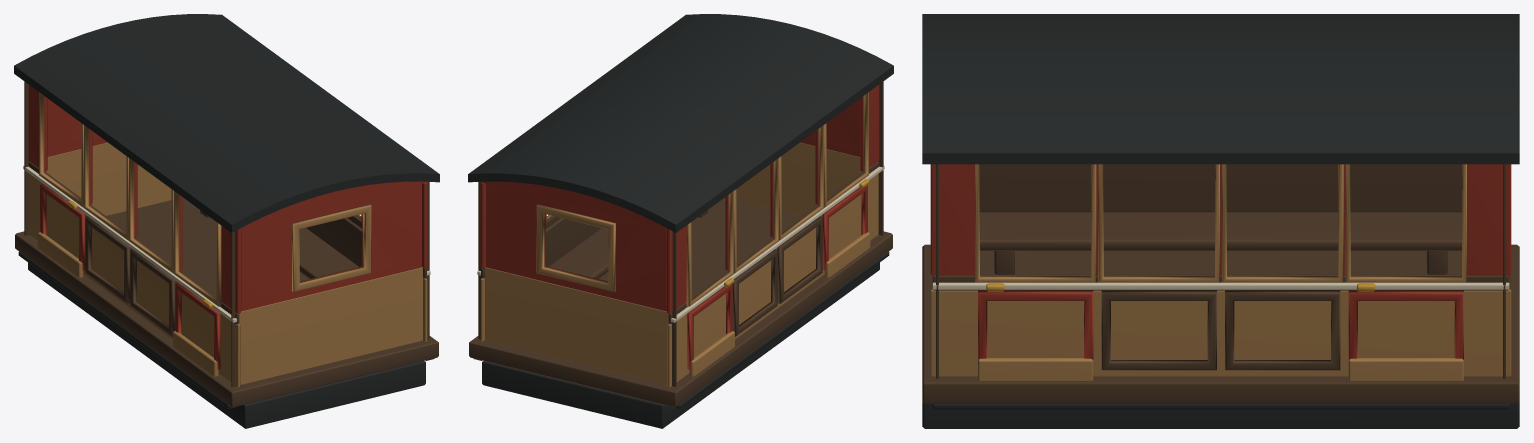
Rendered from rider-coach.glb.
The picture shows the model from 3 angles, left to right: view 1: azimuth 30°, elevation 25°; view 2: azimuth 150°, elevation 25°; view 3: azimuth 270°, elevation 25°; orthographic projection. The views are drawn at different scales.
Visible parts, largest first — view 1: coach_shell, coach_underframe, coach_step_LR, coach_step_LF; view 2: coach_shell, coach_underframe, coach_step_LF, coach_step_LR; view 3: coach_shell, coach_underframe, coach_step_RF, coach_step_RR.
Part boxes in pixels (box(x1,y1,x2,y2)): coach_shell: box(14, 14, 439, 409); coach_underframe: box(28, 262, 425, 428); coach_step_LR: box(37, 232, 83, 277); coach_step_LF: box(173, 331, 218, 376); coach_shell: box(468, 14, 893, 409); coach_underframe: box(482, 262, 879, 428); coach_step_LF: box(824, 232, 870, 277); coach_step_LR: box(689, 331, 734, 376); coach_shell: box(922, 14, 1519, 409); coach_underframe: box(922, 402, 1519, 428); coach_step_RF: box(978, 358, 1093, 380); coach_step_RR: box(1348, 358, 1463, 380).
Size of the model in its own units: 1.6 by 1.65 by 2.9.
